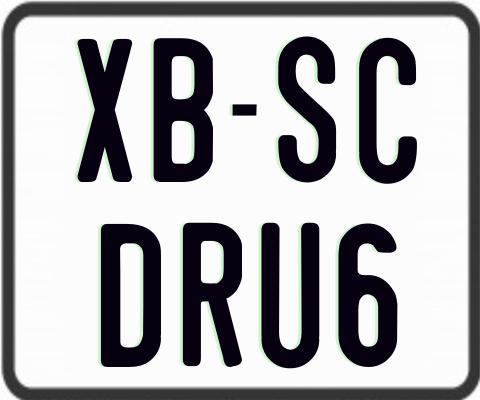6: (338, 222, 402, 371)
B: (154, 38, 219, 182)
C: (358, 35, 421, 185)
D: (98, 223, 164, 367)
R: (181, 220, 242, 368)
S: (277, 34, 338, 180)
U: (261, 222, 320, 368)
X: (74, 38, 129, 181)
